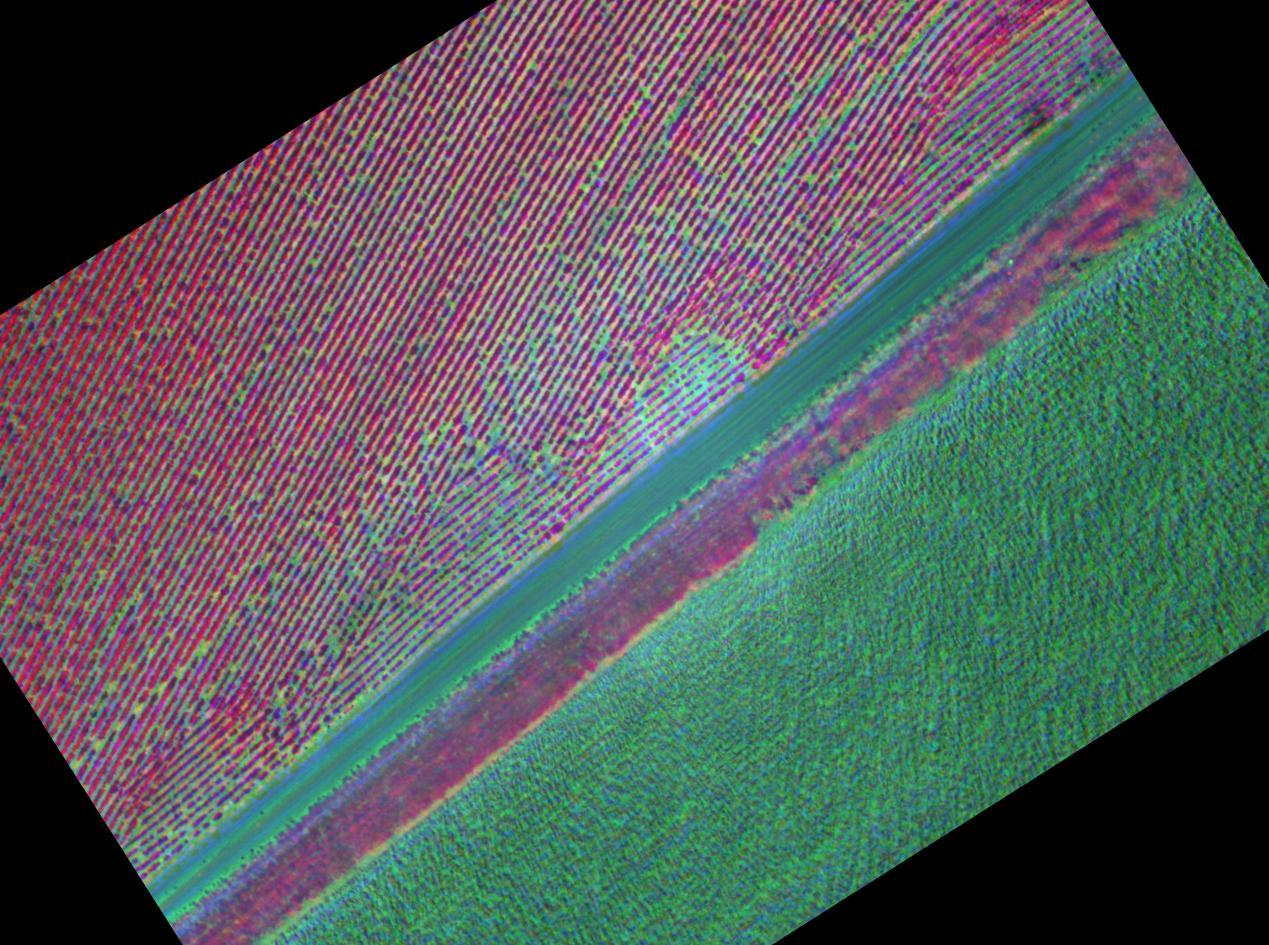dc: (490, 423, 501, 434), (818, 118, 830, 128), (502, 482, 514, 492), (595, 336, 605, 347), (681, 229, 692, 236), (424, 436, 432, 443), (806, 175, 814, 181)
